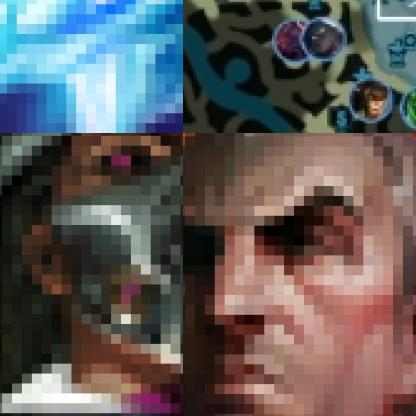Anivia: (0, 0, 182, 132)
Cassiopeia: (347, 76, 395, 124)
Renata Glasc: (0, 133, 182, 415)
Senna: (302, 16, 347, 62)
Sion: (271, 20, 318, 64)
Swain: (183, 133, 415, 415)
Zac: (399, 84, 415, 131)
